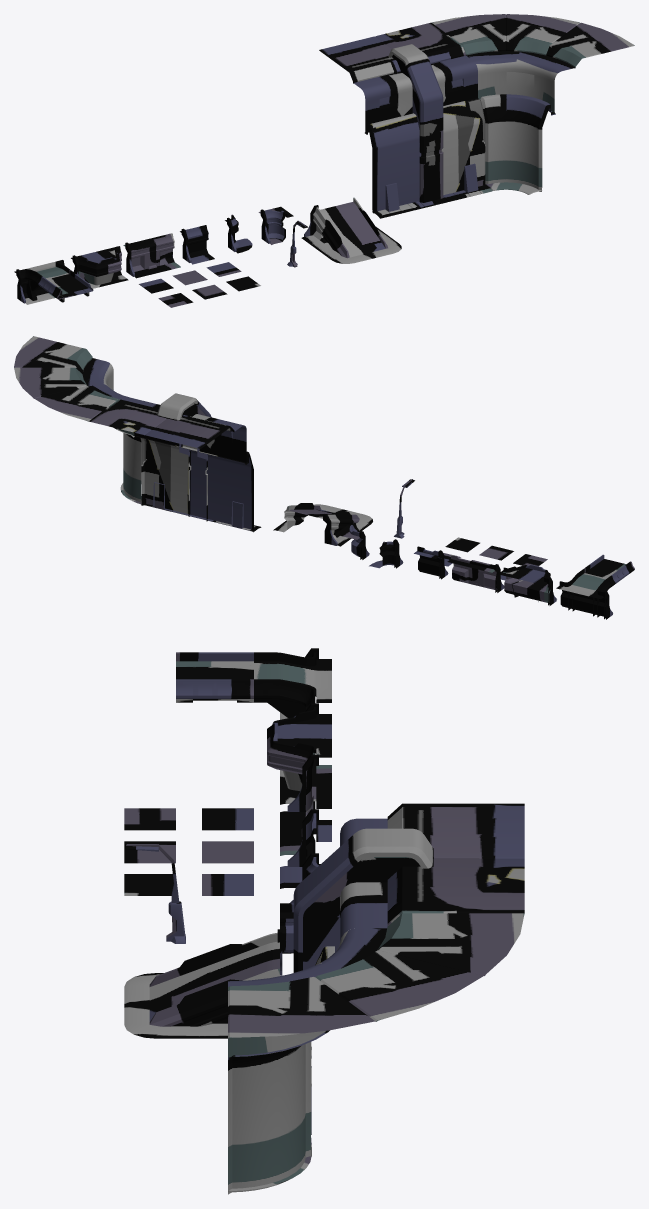
File: structural_master.fbx
The picture shows the model from 3 angles, top to bottom: view 1: azimuth 30°, elevation 25°; view 2: azimuth 150°, elevation 25°; view 3: azimuth 270°, elevation 25°; orthographic projection. The views are drawn at different scales.
Visible parts, largest first — view 1: ext-wall_A, ext-wall_B, int-wall-ramp, int-wall_B, int-wall-balcony, int-wall-bridge_A, int-wall-bridge_B, int-wall_A, int-wall-corner-int, int-wall-corner-ext; view 2: ext-wall_A, ext-wall_B, int-wall-ramp, int-wall-bridge_A, int-wall-balcony, int-wall_B, int-wall-bridge_B, int-wall_A, int-wall-corner-int, int-wall-corner-ext; view 3: ext-wall_B, ext-wall_A, int-wall-ramp, int-wall-bridge_A, int-wall-balcony, int-wall-bridge_B, int-wall_B, int-wall_A, floor_D, floor_E, floor_B, floor_F (+3 smaller).
Boxes of the visible parts, x1,y1,x2,y2 form: ext-wall_A: [319, 22, 492, 218]; ext-wall_B: [432, 14, 634, 194]; int-wall-ramp: [301, 197, 401, 263]; int-wall_B: [123, 233, 180, 278]; int-wall-balcony: [71, 246, 128, 288]; int-wall-bridge_A: [14, 260, 69, 304]; int-wall-bridge_B: [38, 270, 93, 302]; int-wall_A: [180, 225, 214, 264]; int-wall-corner-int: [258, 206, 293, 244]; int-wall-corner-ext: [225, 214, 252, 253]; ext-wall_A: [88, 393, 261, 532]; ext-wall_B: [14, 336, 141, 505]; int-wall-ramp: [273, 503, 372, 546]; int-wall-bridge_A: [556, 569, 615, 619]; int-wall-balcony: [500, 564, 556, 605]; int-wall_B: [447, 555, 504, 592]; int-wall-bridge_B: [584, 554, 634, 583]; int-wall_A: [414, 546, 448, 579]; int-wall-corner-int: [335, 522, 369, 559]; int-wall-corner-ext: [369, 539, 403, 568]; ext-wall_B: [228, 913, 524, 1194]; ext-wall_A: [293, 803, 524, 1156]; int-wall-ramp: [124, 929, 282, 1038]; int-wall-bridge_A: [254, 648, 331, 719]; int-wall-balcony: [267, 703, 331, 804]; int-wall-bridge_B: [176, 652, 253, 702]; int-wall_B: [280, 754, 331, 855]; int-wall_A: [280, 809, 331, 888]; floor_D: [202, 808, 253, 830]; floor_E: [202, 841, 253, 863]; floor_B: [124, 808, 175, 830]; floor_F: [202, 874, 253, 895].
Bounding box in the file's own units: 5282 × 1134 × 1543.
